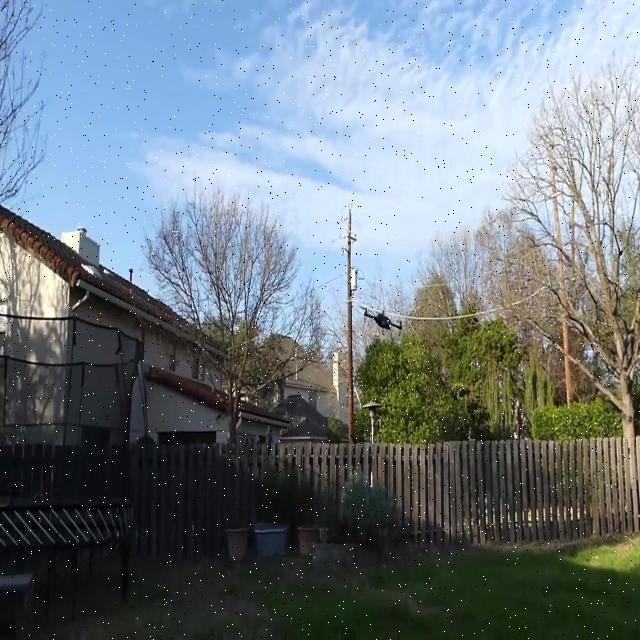UAV: (358, 306, 402, 337)
